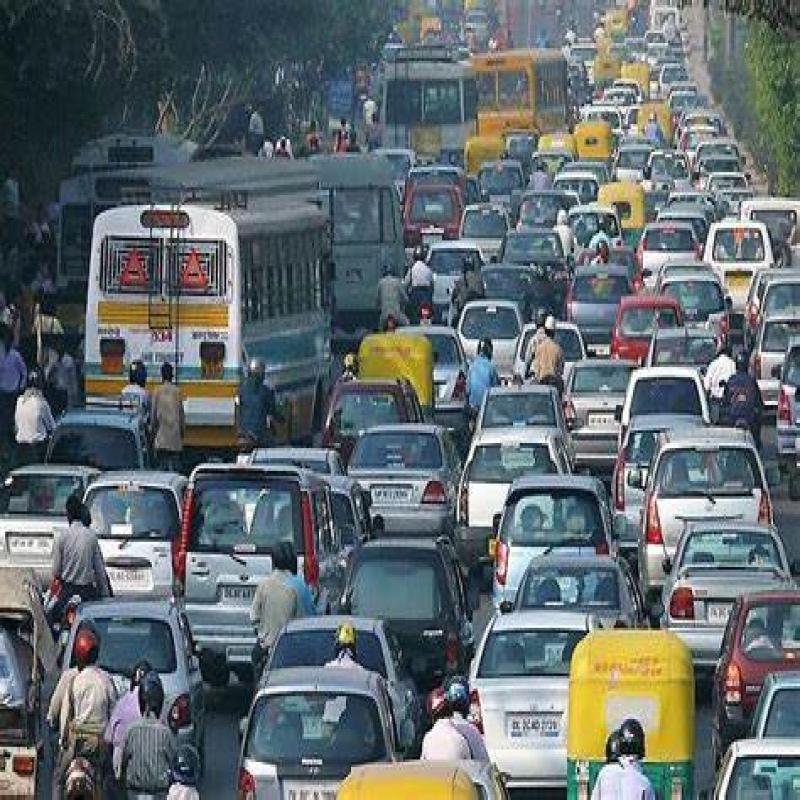car: (173, 465, 322, 691), (452, 601, 594, 795), (235, 623, 388, 800), (358, 538, 480, 702), (637, 427, 762, 586), (662, 508, 788, 656), (65, 467, 180, 622), (495, 480, 610, 628), (0, 461, 95, 611), (341, 429, 456, 530), (558, 342, 636, 478), (616, 355, 714, 448)
